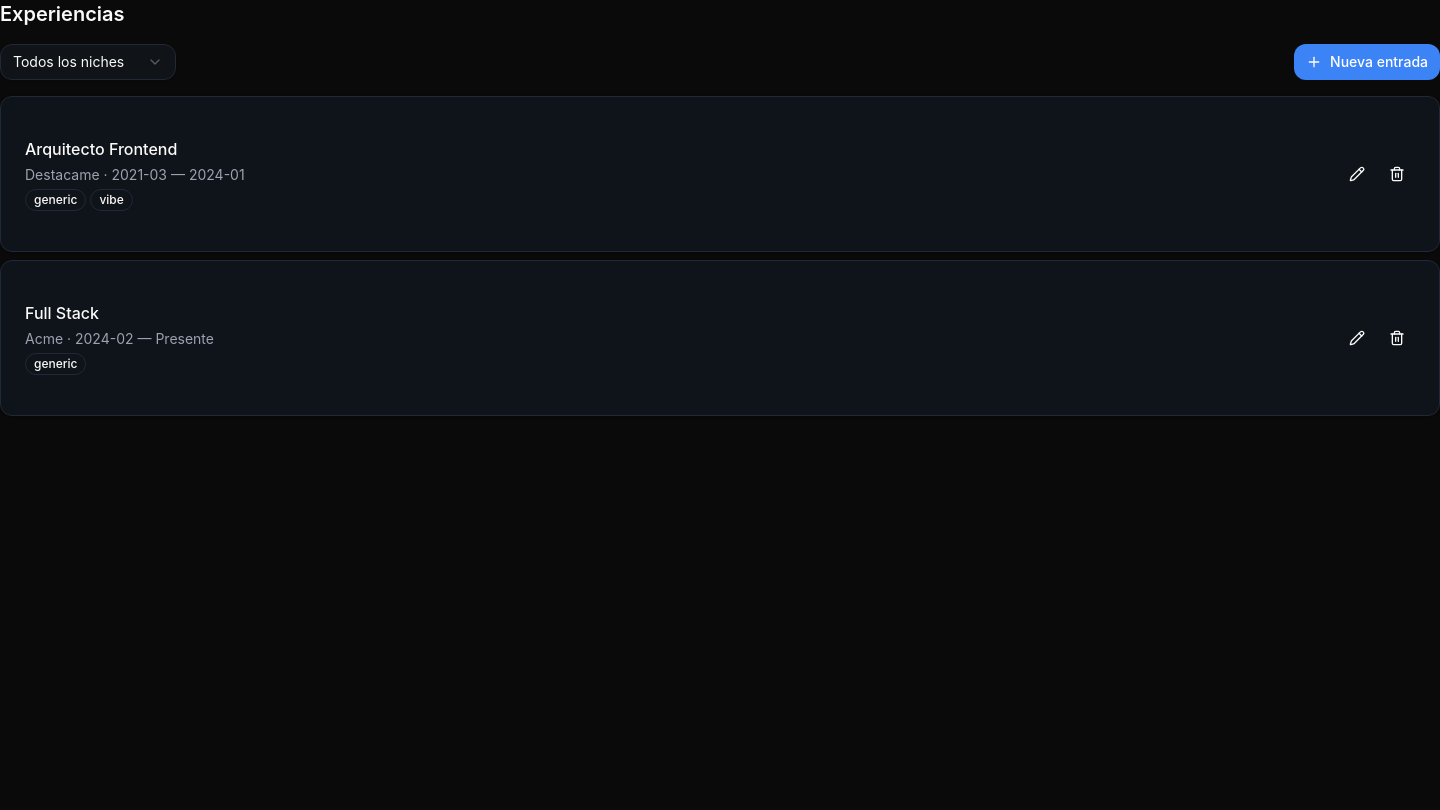
Scenario: CvEntitySection › Given editar una card When se clickea Then el form hidrata la entidad y al guardar envia upsert
Check: the number of elements with test id "cv-entity-card" is 2, box [0,96,1439,252]; [0,260,1439,416]
Note: abrir edicion de la primera.
Click the button with test id "cv-entity-edit" at (1357, 174), box [1339,156,1375,192]
(page scrolled)
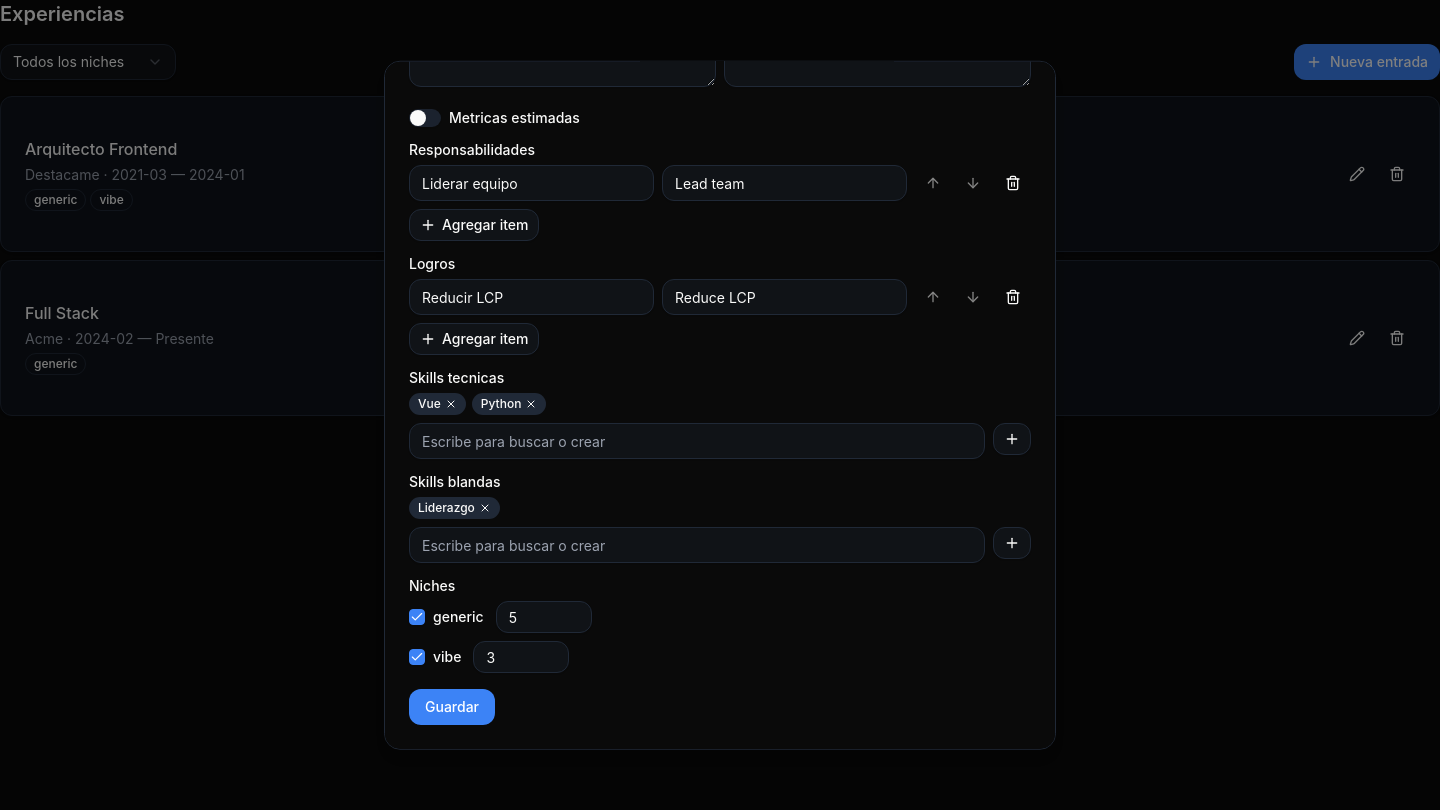
Click the button with test id "cv-form-submit" at (452, 707), box [409,689,495,725]
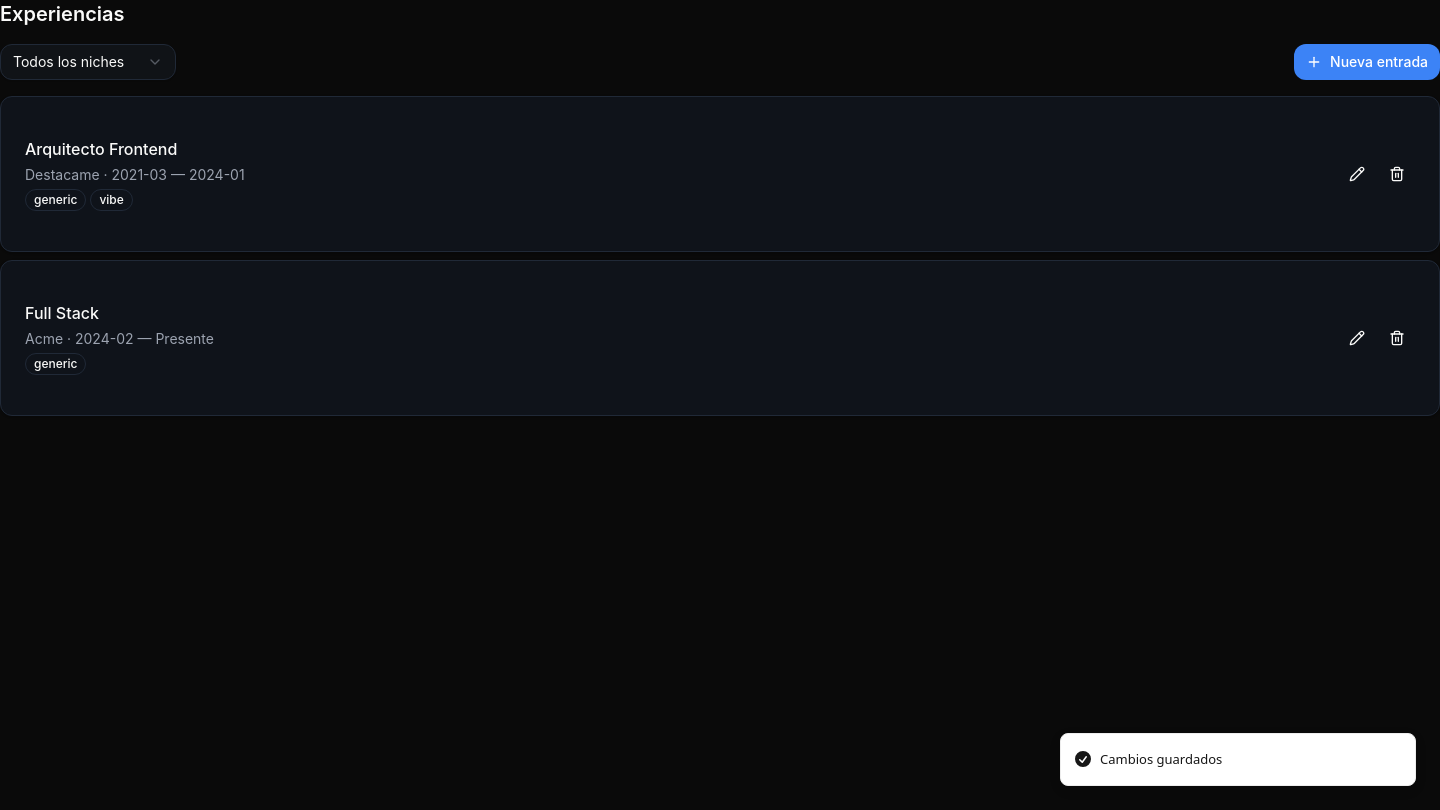
Check: the dialog with test id "cv-entity-form-dialog" is gone
